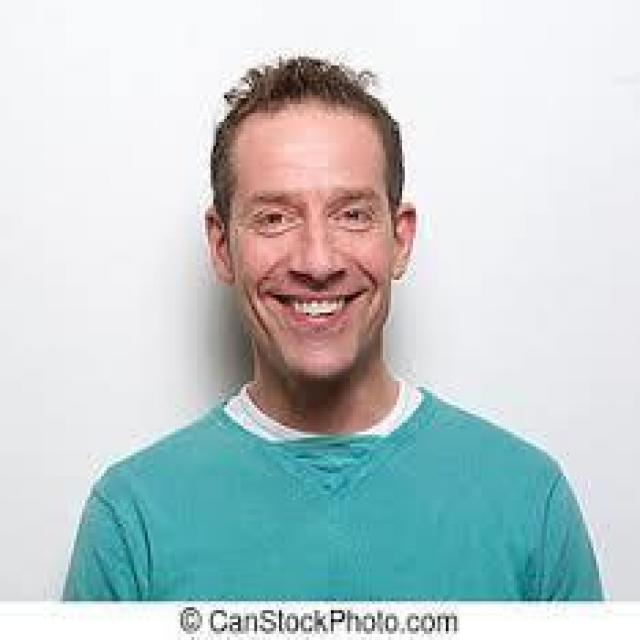person: (22, 18, 615, 601)
